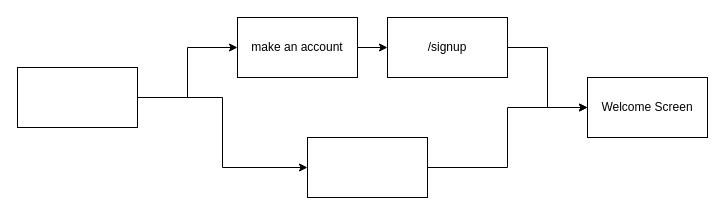
Image size: 725x215. Some labels were removed from this diagram. Here are the shapes that lost their labels. From the top down, the box of each, then its label:
(16, 66, 138, 128): /login page
(306, 136, 428, 198): authorized
